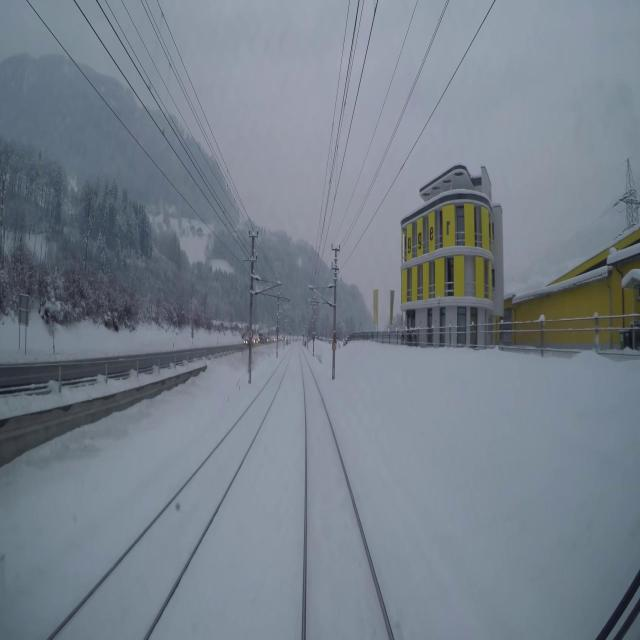rail-track: (56, 345, 293, 639), (300, 350, 389, 639)
